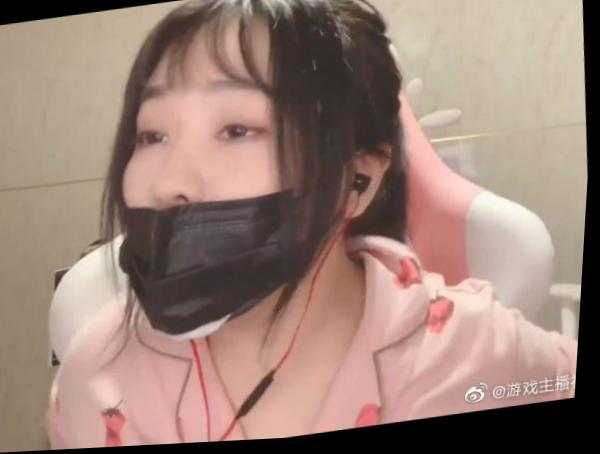WRONG: (102, 34, 339, 348)
